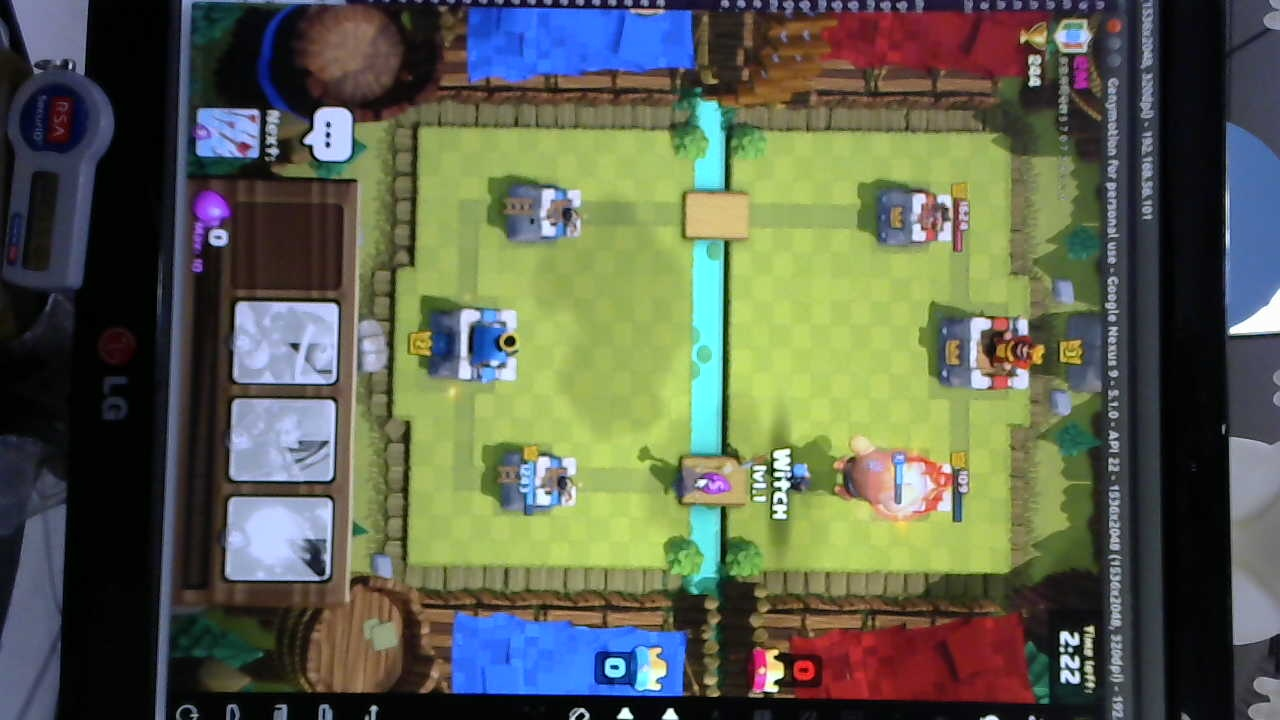arena: (500, 448, 582, 513), (517, 188, 583, 242)
bomb: (778, 454, 814, 496)
earena: (871, 186, 954, 252), (881, 459, 953, 523)
eking: (937, 310, 1037, 393)
giant: (835, 434, 894, 510)
king: (430, 300, 523, 385)
